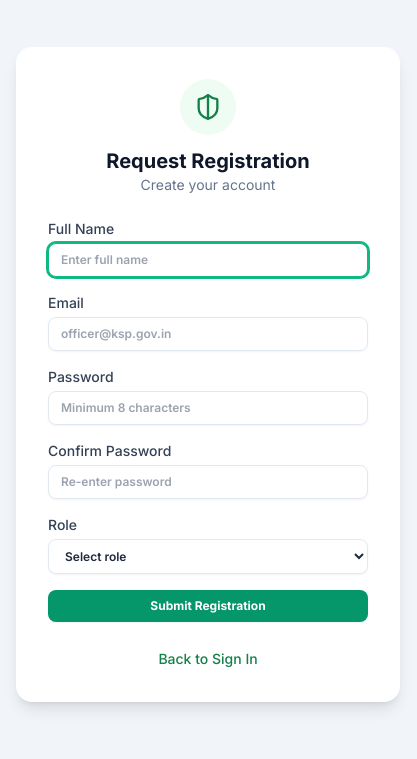
Test: Register Page — /auth/users submission path › surfaces API errors from /auth/users
The image size is (417, 759).
Type "Test User" into the field with placeholder "Enter full name" at coordinates (208, 260), box [48, 242, 368, 276]
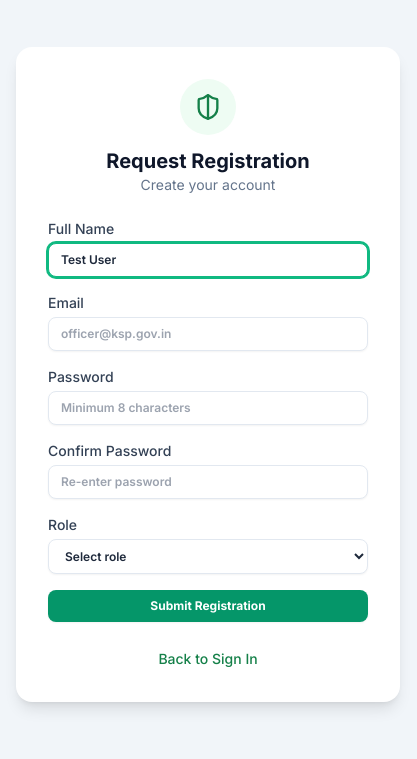
Type "test@ksp.gov.in" into the field with placeholder "officer@ksp.gov.in" at coordinates (208, 334), box [48, 316, 368, 350]
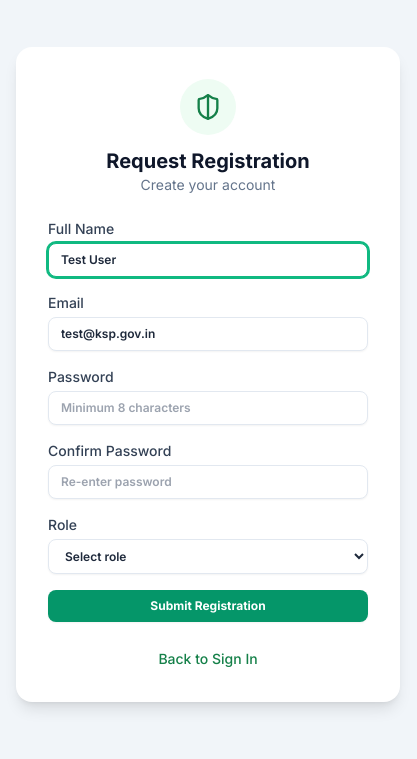
Type "password123" into the password field with placeholder "Minimum 8 characters" at coordinates (208, 408), box [48, 390, 368, 424]
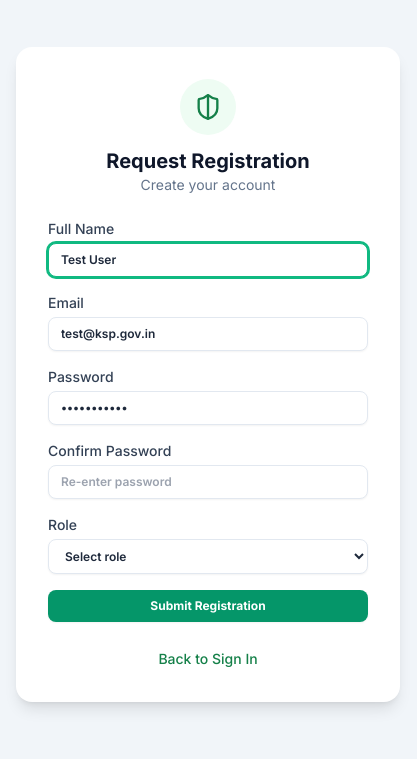
Type "password123" into the password field with placeholder "Re-enter password" at coordinates (208, 482), box [48, 464, 368, 498]
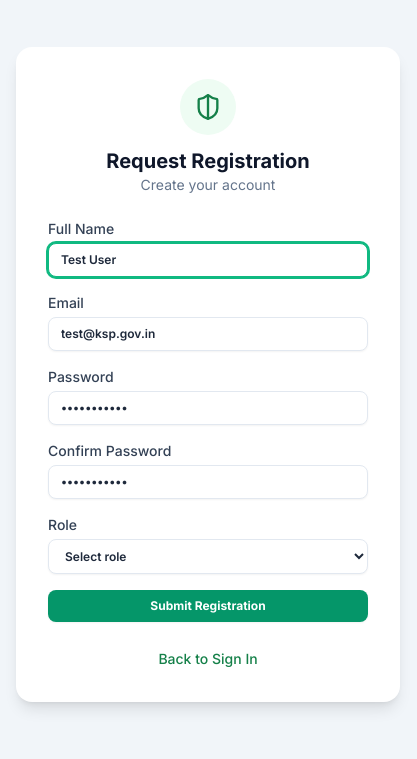
Select "Police Control Center Officer" in the dropdown at coordinates (208, 556), box [48, 538, 368, 574]
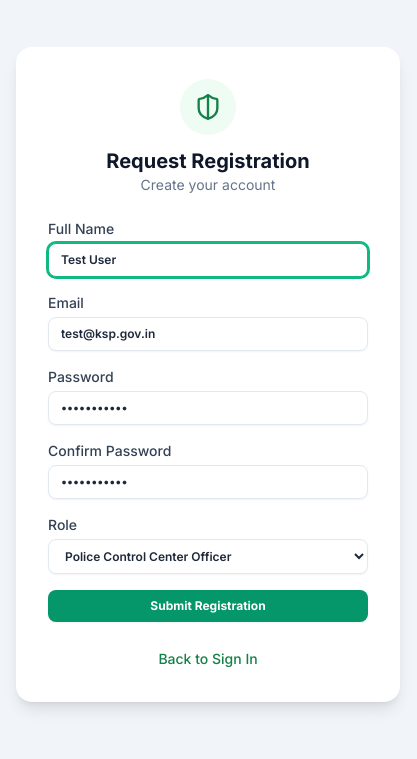
Click the button "Submit Registration" at coordinates (208, 606), box [48, 590, 368, 622]
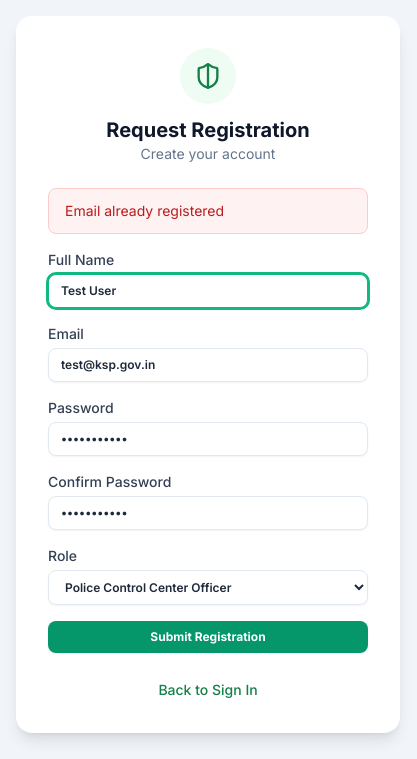
Check: the text "Email already registered" is shown, box [48, 188, 368, 234]
